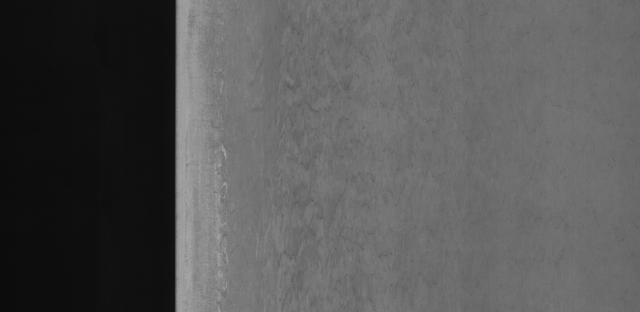silk_spot: (254, 5, 475, 305)
